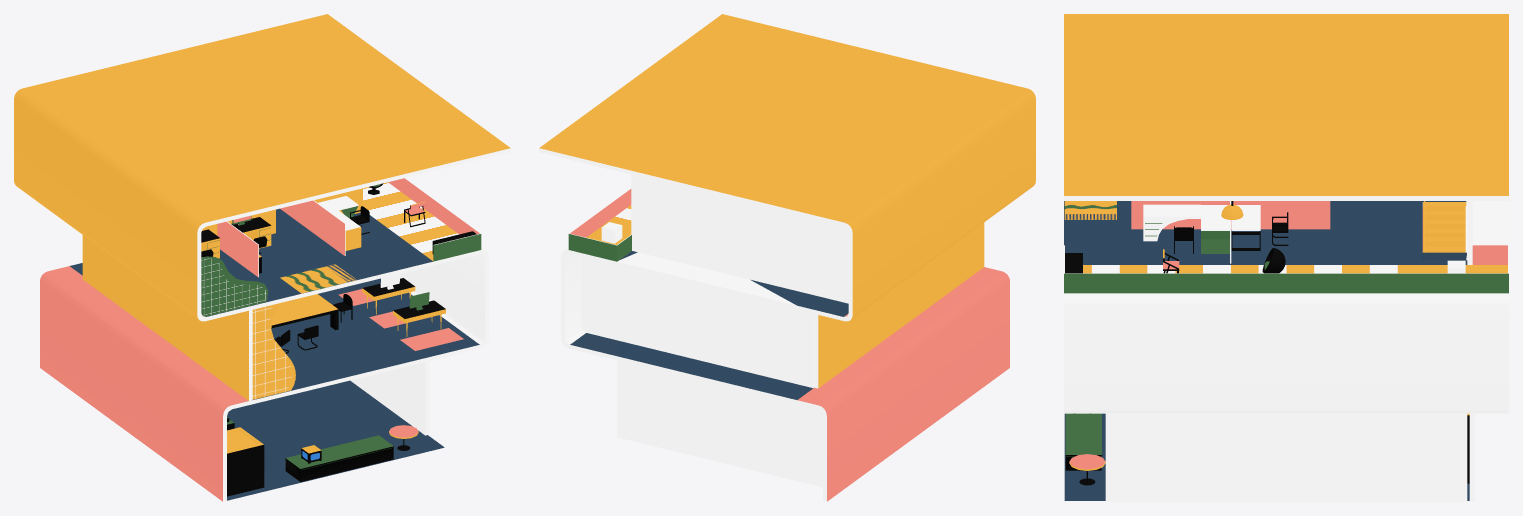
The model's file is 产品线2.fbx.
3 renders of one model, left to right at view 1: azimuth 30°, elevation 25°; view 2: azimuth 150°, elevation 25°; view 3: azimuth 270°, elevation 25°, orthographic. The views are drawn at different scales.
Visible parts, largest first — view 1: building, Plane, wall, table, wall_2, machine1, bar, wall2, meeting_table, wall_3, carpet, table_9 (+3 smaller); view 2: building, bar; view 3: building, bar, wall2, stairs2, table, Plane, table_7, table_17, carpet, table_15, desk1.
Boxes of the visible parts, x1,y1,x2,y2 form: building: (14, 14, 510, 501); Plane: (227, 380, 444, 500); wall: (252, 303, 295, 399); table: (285, 435, 393, 481); wall_2: (201, 256, 268, 316); machine1: (227, 427, 265, 496); bar: (388, 178, 481, 261); wall2: (280, 200, 345, 255); meeting_table: (271, 294, 338, 330); wall_3: (217, 221, 258, 277); carpet: (280, 264, 356, 293); table_9: (393, 300, 445, 337); building: (539, 14, 1035, 501); bar: (568, 188, 631, 261); building: (1064, 14, 1508, 501); bar: (1064, 245, 1508, 293); wall2: (1131, 201, 1330, 229); stairs2: (1423, 201, 1466, 252); table: (1065, 413, 1101, 470); Plane: (1064, 413, 1469, 500); table_7: (1143, 204, 1200, 241); table_17: (1201, 205, 1229, 253); carpet: (1064, 201, 1116, 219); table_15: (1231, 205, 1260, 250); desk1: (1069, 454, 1105, 485).
Bounding box in the file's own units: 1215 × 1056 × 1230.
